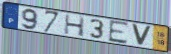3: (89, 18, 105, 40)
7: (43, 9, 61, 34)
9: (21, 8, 39, 30)
E: (108, 19, 130, 46)
H: (64, 14, 87, 38)
V: (130, 23, 153, 48)
